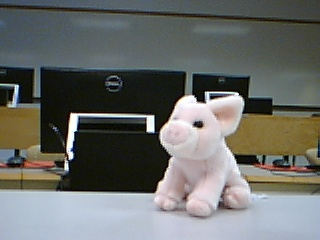piggy: (153, 92, 255, 219)
